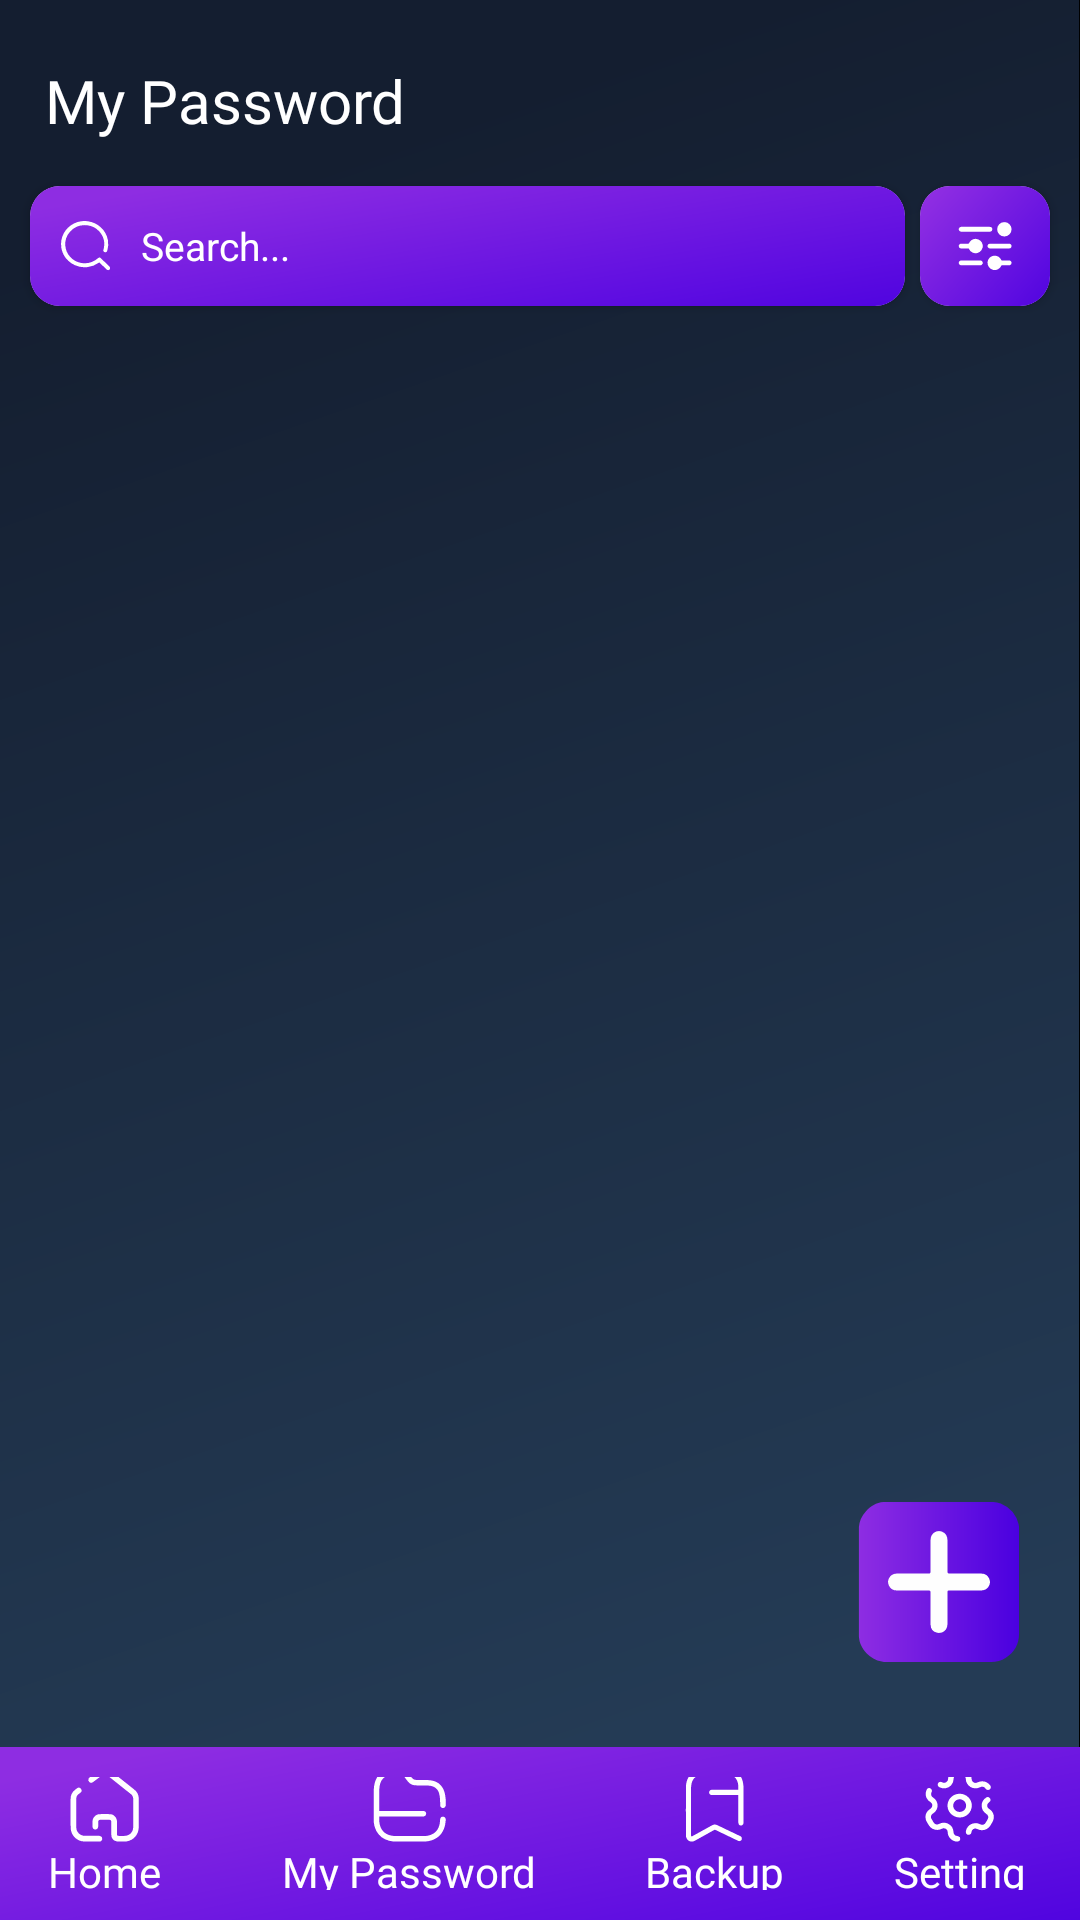

Screen size 1080x1920. Icon name, then its center in pixels as point (x, y):
adddata: point (939, 1582)
filter: point (985, 246)
